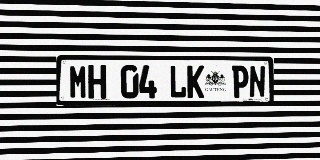0: (121, 65, 138, 99)
4: (139, 65, 157, 98)
H: (88, 65, 106, 99)
K: (187, 65, 204, 98)
L: (169, 65, 186, 98)
M: (69, 65, 87, 99)
N: (249, 66, 266, 98)
P: (232, 66, 249, 98)
